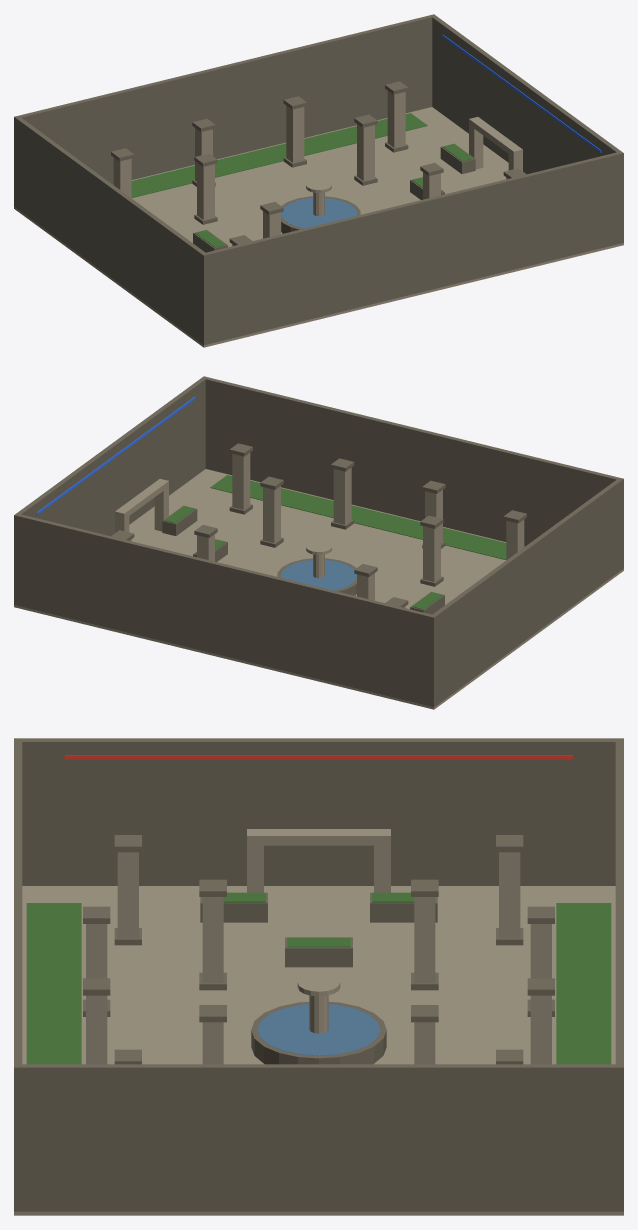
Rendered from courtyard.obj.
The picture shows the model from 3 angles, top to bottom: view 1: azimuth 30°, elevation 25°; view 2: azimuth 150°, elevation 25°; view 3: azimuth 270°, elevation 25°; orthographic projection. The views are drawn at different scales.
Bounding box in the file's own units: 36.8 × 7.7 × 28.8.
